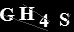4: (37, 13, 50, 27)
G: (1, 6, 15, 22)
H: (17, 6, 36, 21)
S: (58, 12, 70, 27)
